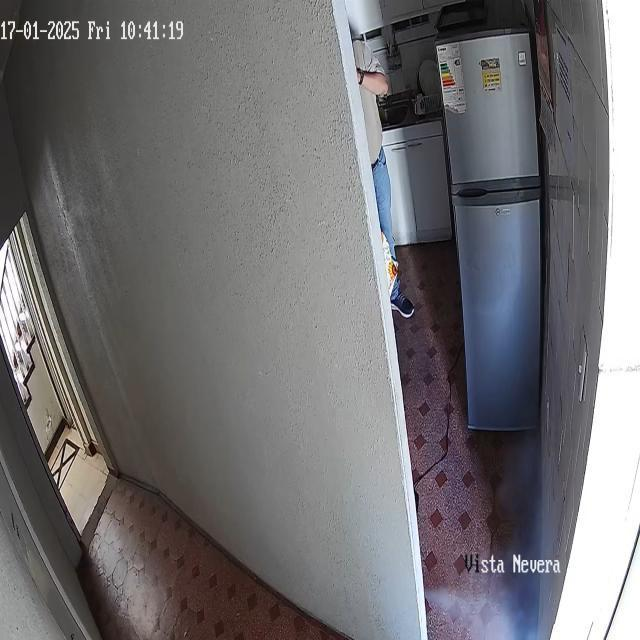fire: (425, 418, 560, 640)
